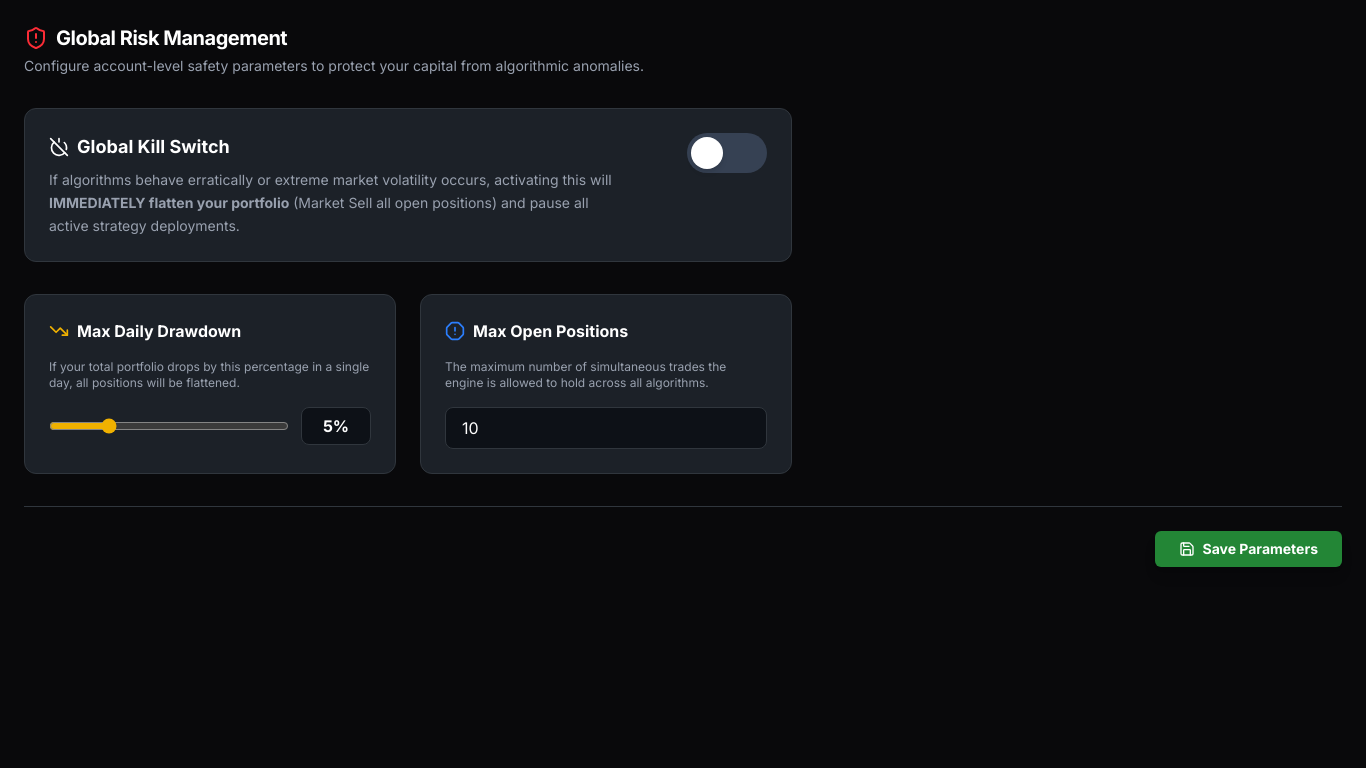
Test: RiskManagement Component › updates max drawdown slider
Set the slider to "7.5": (137, 426) [49,418,289,434]
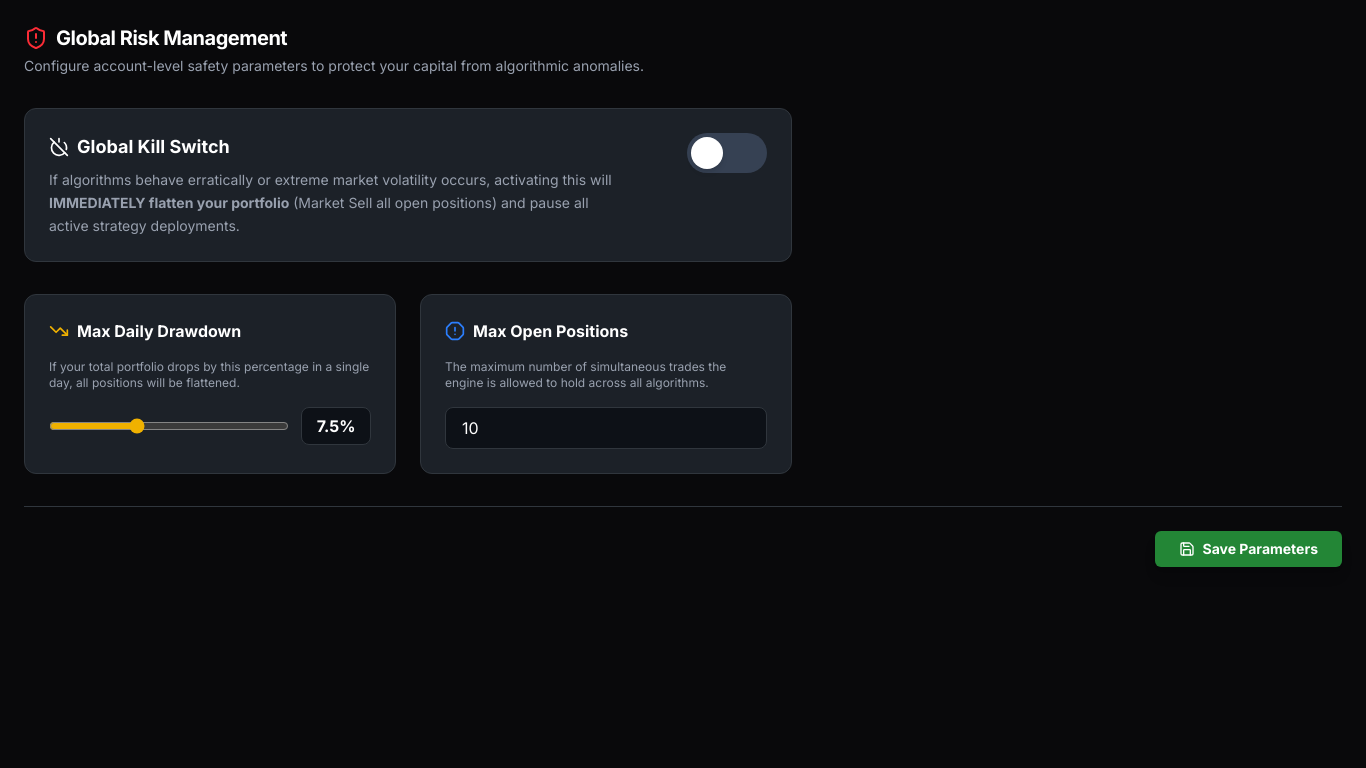
Expected: the text "7.5%" is shown, [301,407,371,445]
